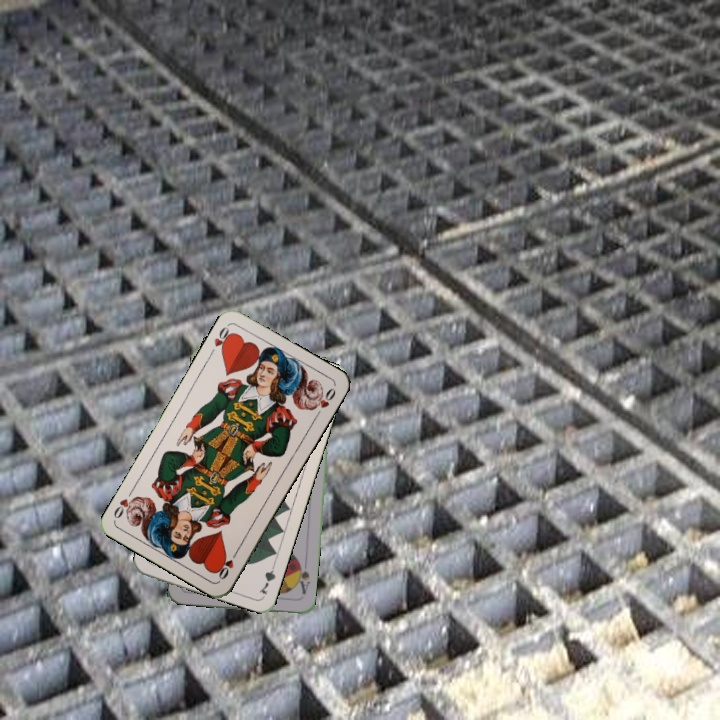G7: (255, 558, 278, 597)
HO: (214, 546, 241, 582), (210, 321, 236, 355)
SA: (292, 559, 313, 597)
